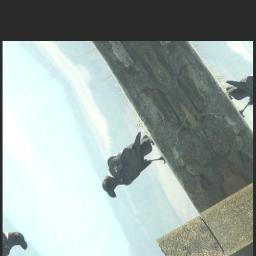Crow: (85, 129, 170, 202)
